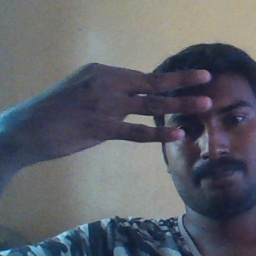K: (25, 61, 212, 150)
